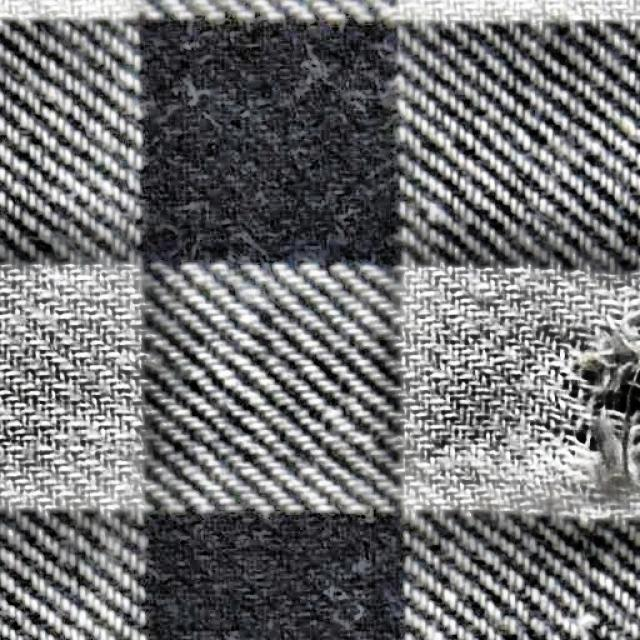Stitch: (552, 286, 640, 532)
